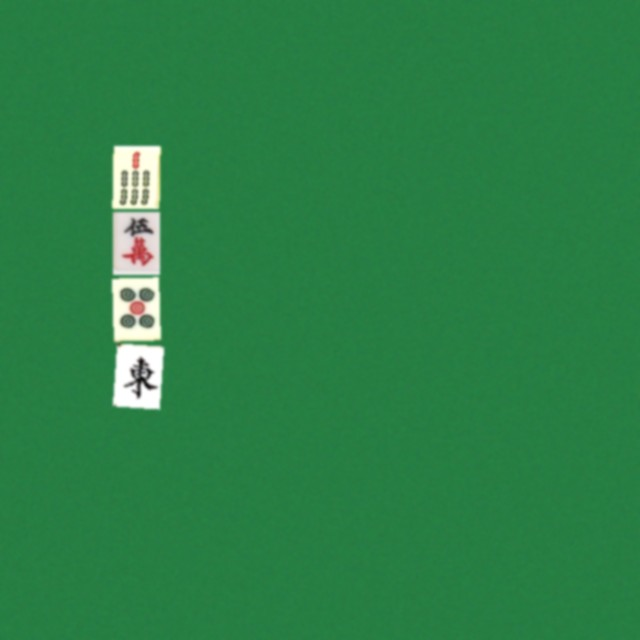tile: (112, 145, 159, 208), (112, 211, 159, 274), (112, 277, 159, 340), (112, 343, 159, 406)
